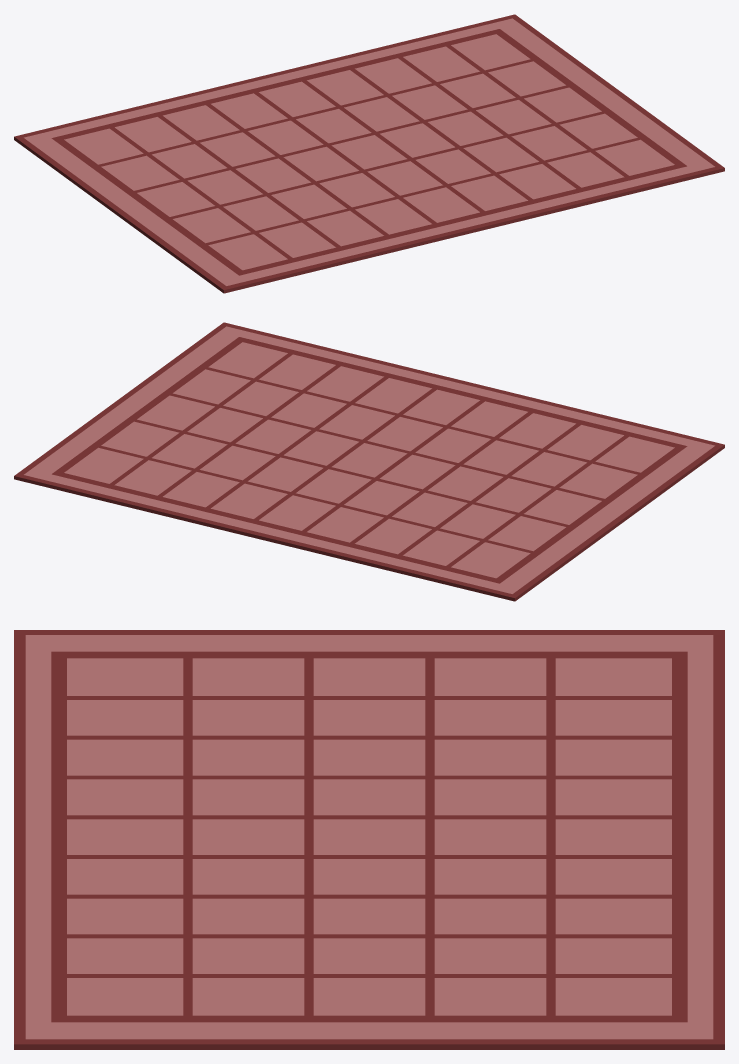
File: Carpet_11.glb
3 renders of one model, top to bottom at view 1: azimuth 30°, elevation 25°; view 2: azimuth 150°, elevation 25°; view 3: azimuth 270°, elevation 25°, orthographic. The views are drawn at different scales.
Visible parts, largest first — view 1: Carpet_11; view 2: Carpet_11; view 3: Carpet_11.
Part boxes in pixels (bbox=[...]): Carpet_11: bbox=[14, 14, 724, 293]; Carpet_11: bbox=[14, 322, 724, 601]; Carpet_11: bbox=[14, 630, 724, 1049].
Bounding box in the file's own units: 3.64 × 0.0236 × 2.64.
1 material, 1 textured.
